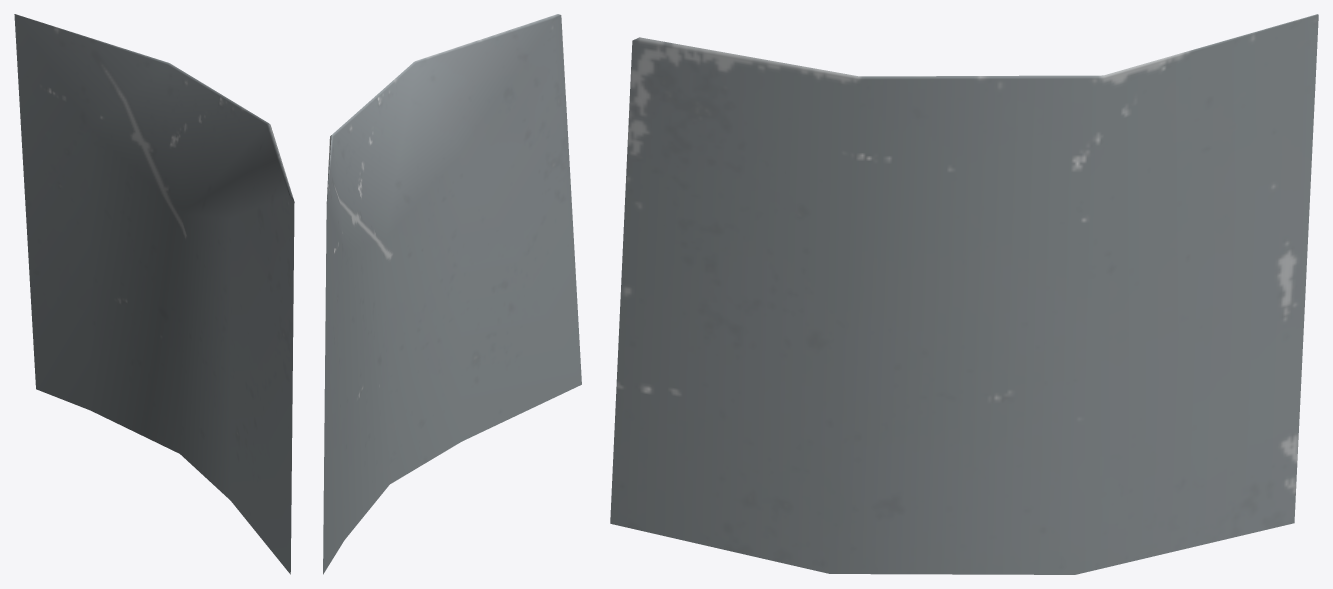
The model's file is verre_brisee_morceau_2.fbx.
3 renders of one model, left to right at view 1: azimuth 30°, elevation 25°; view 2: azimuth 150°, elevation 25°; view 3: azimuth 270°, elevation 25°, orthographic. The views are drawn at different scales.
Parts seen in each view (by area): view 1: verre_brises_morceua2; view 2: verre_brises_morceua2; view 3: verre_brises_morceua2.
Part boxes in pixels (bbox=[...]): verre_brises_morceua2: bbox=[14, 14, 294, 574]; verre_brises_morceua2: bbox=[323, 14, 581, 574]; verre_brises_morceua2: bbox=[610, 14, 1318, 574].
Bounding box in the file's own units: 0.0126 × 0.0528 × 0.0669.
